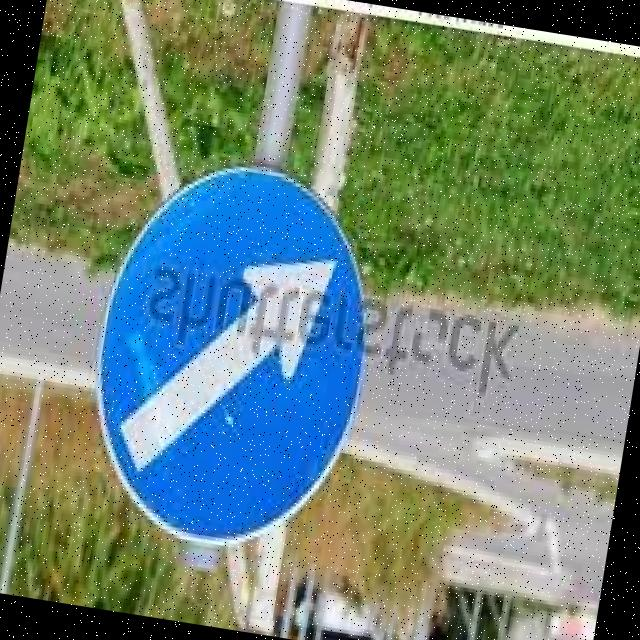compulsory_keep_right: (57, 137, 400, 575)
